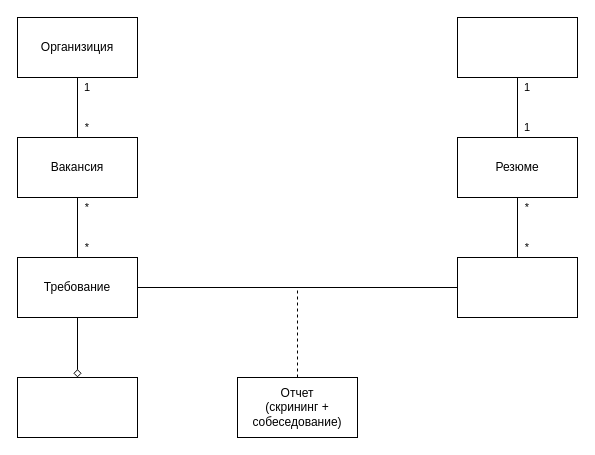
Some shapes in this 595 by 455 pixel diagram are drawn without their labels. Here are the shapes that lost their labels. From the top down, the box of each, then its label:
(456, 16, 578, 78): Кандидат
(456, 256, 578, 318): Навыки
(16, 376, 138, 438): Группа требований открытых вакансий
